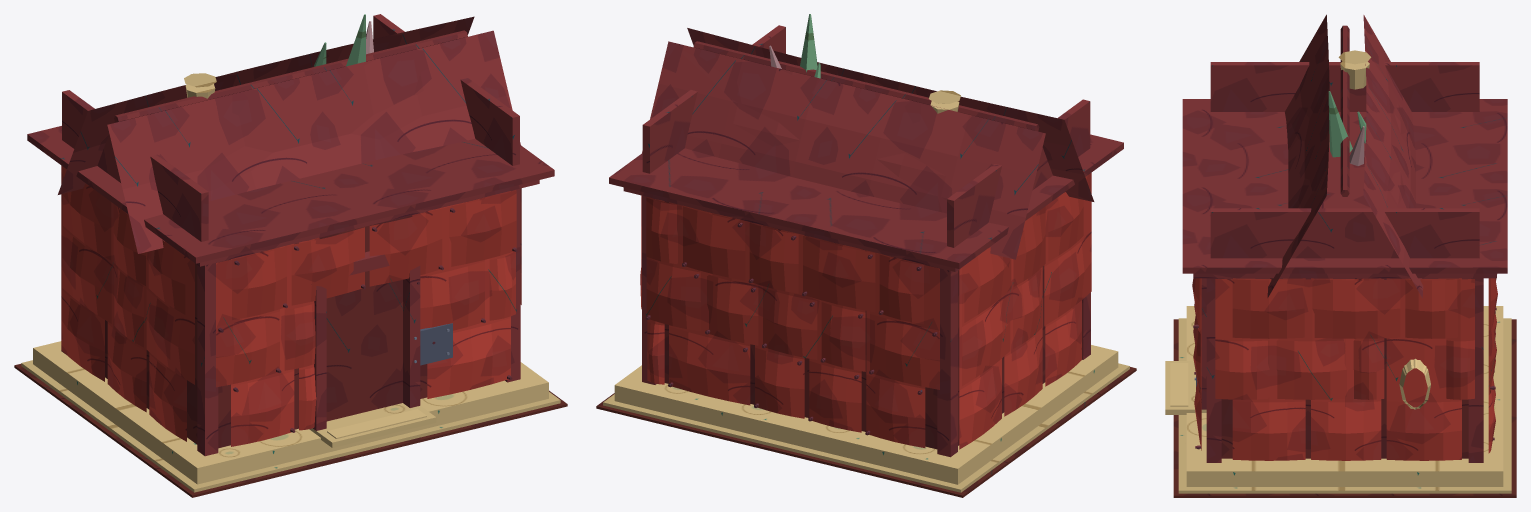
Rendered from env_hut_residential_a.glb.
The picture shows the model from 3 angles, left to right: view 1: azimuth 30°, elevation 25°; view 2: azimuth 150°, elevation 25°; view 3: azimuth 270°, elevation 25°; orthographic projection. The views are drawn at different scales.
Visible parts, largest first — view 1: lod0__hut_a_shell, lod1__hut_a_shell, lod0__hut_a_clay, lod2__hut_a_shell, lod0__hut_a_alloy; view 2: lod0__hut_a_shell, lod0__hut_a_clay, lod1__hut_a_shell, lod2__hut_a_shell; view 3: lod0__hut_a_shell, lod0__hut_a_clay, lod1__hut_a_shell, lod2__hut_a_shell.
Part boxes in pixels (x1,y1,x2,y2): lod0__hut_a_shell: [14, 14, 567, 497]; lod1__hut_a_shell: [58, 16, 521, 386]; lod0__hut_a_clay: [21, 14, 560, 492]; lod2__hut_a_shell: [61, 165, 510, 380]; lod0__hut_a_alloy: [414, 323, 452, 365]; lod0__hut_a_shell: [596, 25, 1136, 497]; lod0__hut_a_clay: [603, 14, 1129, 492]; lod1__hut_a_shell: [641, 29, 1091, 390]; lod2__hut_a_shell: [647, 197, 1078, 387]; lod0__hut_a_shell: [1173, 15, 1516, 497]; lod0__hut_a_clay: [1165, 50, 1511, 493]; lod1__hut_a_shell: [1199, 14, 1490, 402]; lod2__hut_a_shell: [1200, 278, 1489, 402].
Bounding box in the file's own units: 5.2 × 4.66 × 4.25.
Materials: 3 (2 with a texture image).
